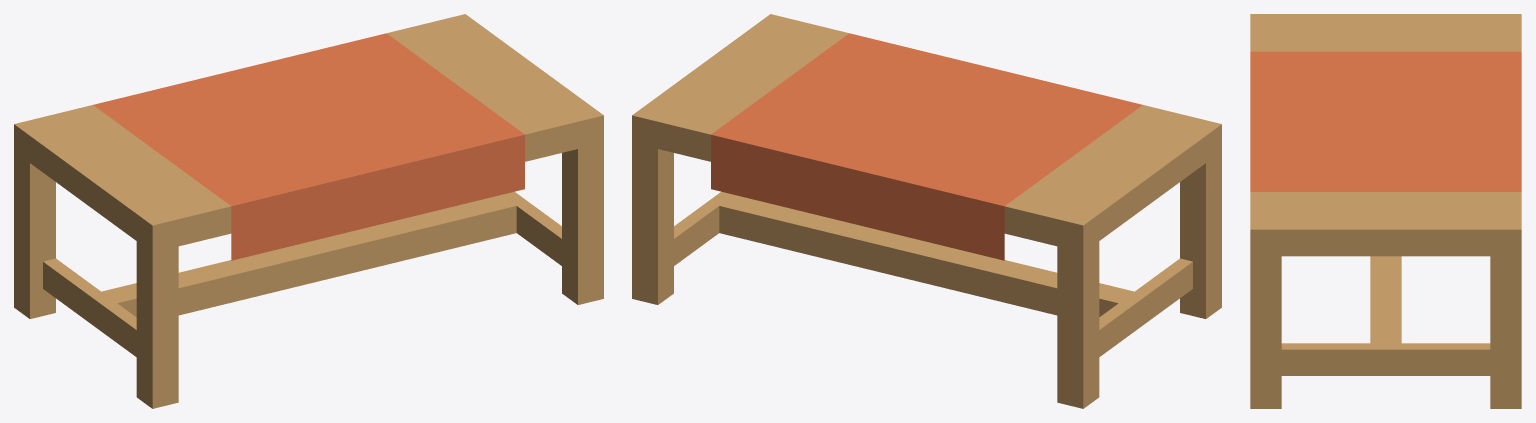
File: tableCloth.glb
The picture shows the model from 3 angles, left to right: view 1: azimuth 30°, elevation 25°; view 2: azimuth 150°, elevation 25°; view 3: azimuth 270°, elevation 25°; orthographic projection. The views are drawn at different scales.
Size of the model in its own units: 8.41 by 3.27 by 4.47.
